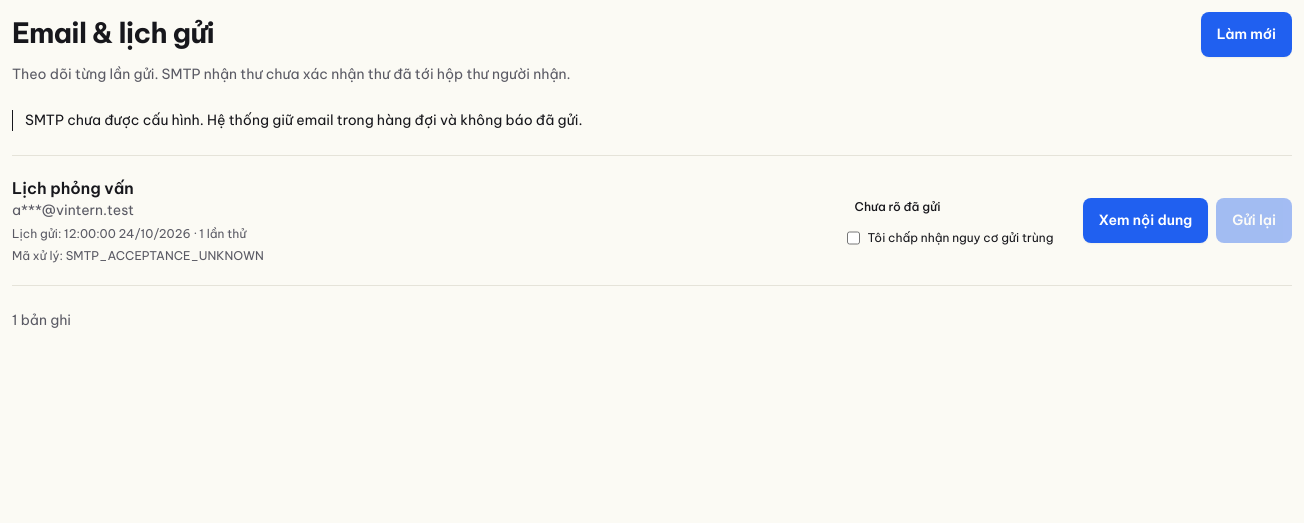
Test case: explains uncertain delivery, requires acknowledgement, blocks double click and surfaces server failure
This screenshot has width=1304, height=523.
Expected: the text "a***@vintern.test" is shown, [12, 201, 134, 219]
Expected: the text "SMTP chưa được cấu hình" is shown, [25, 111, 582, 129]
Click the checkbox labelled "Tôi chấp nhận nguy cơ gửi trùng": (853, 238) [847, 228, 860, 248]
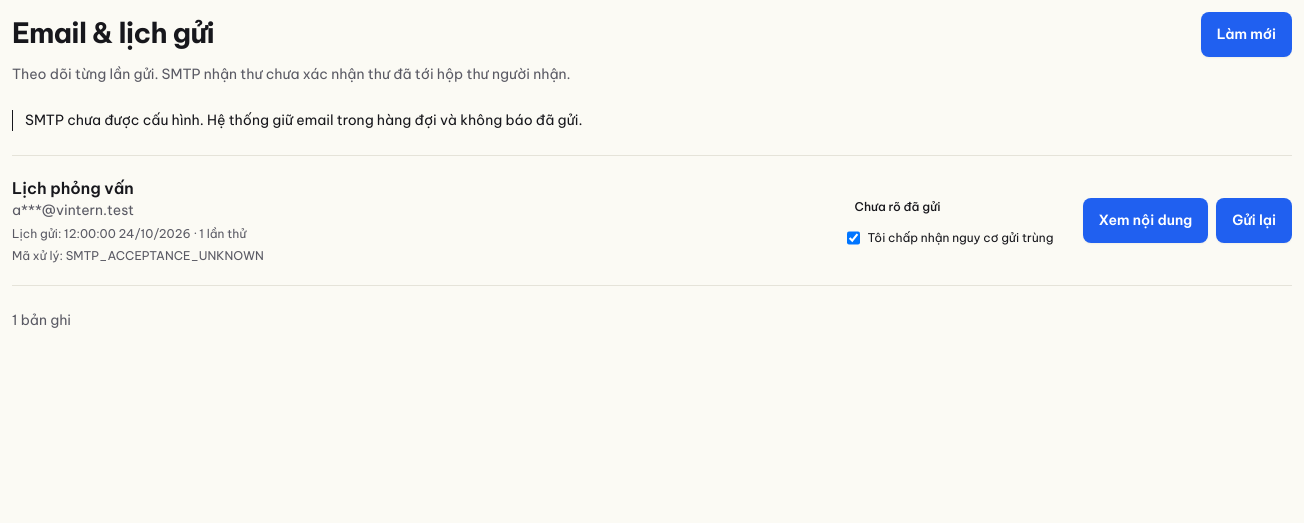
Click the button "Gửi lại": (1254, 220) [1216, 198, 1292, 243]
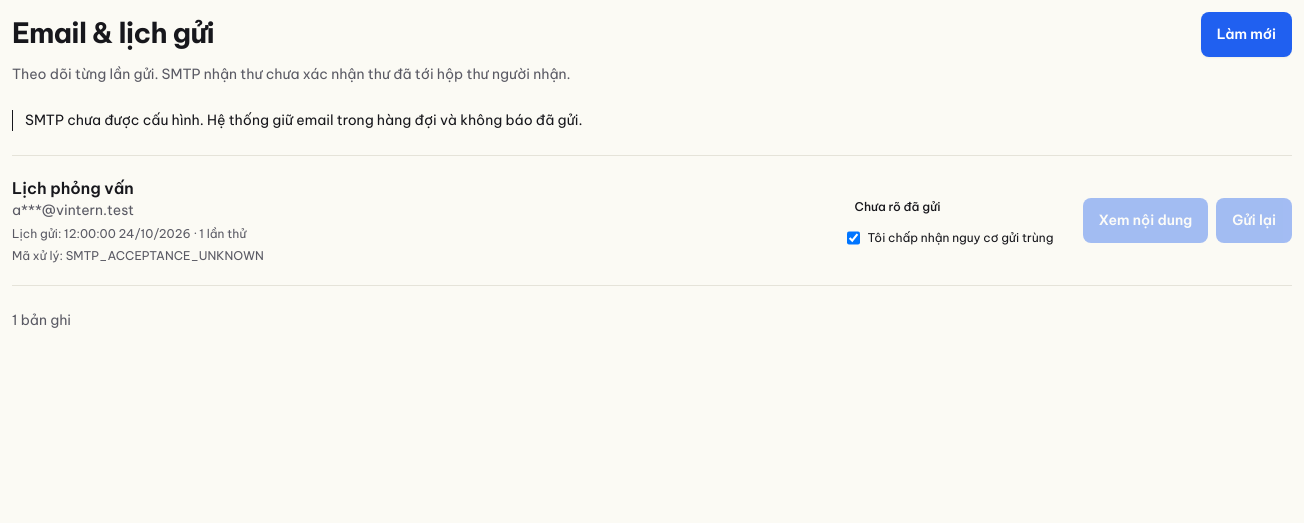
Click the button "Gửi lại": (1254, 220) [1216, 198, 1292, 243]
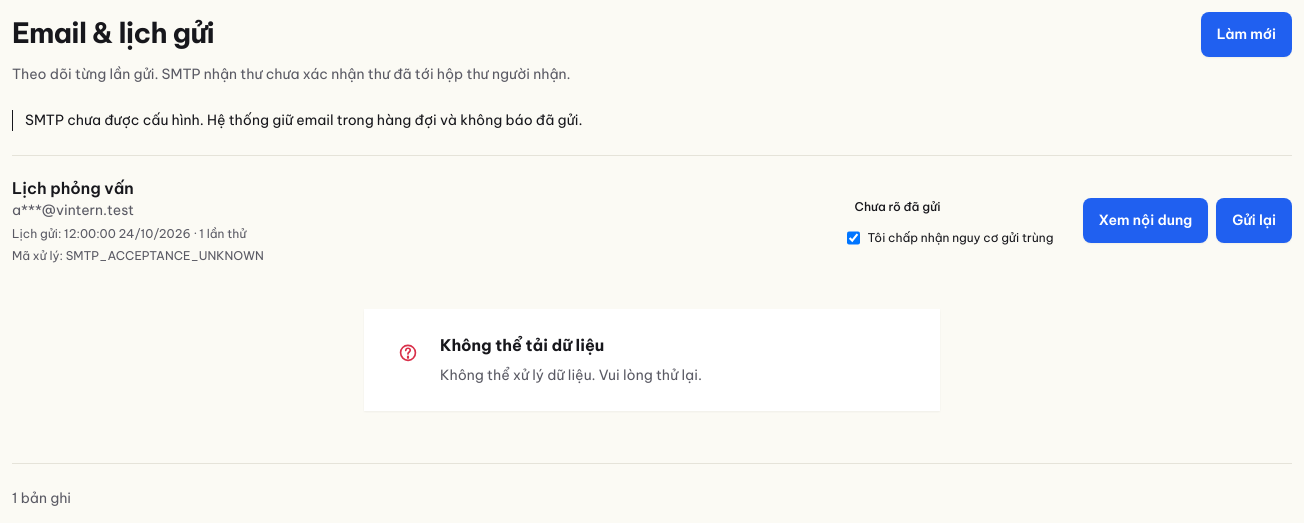
Now the button "Gửi lại" is enabled, box [1216, 198, 1292, 243]
Now the message "Không thể tải dữ liệu Không thể xử lý dữ liệu. Vui lòng thử lại." is shown, box [364, 309, 940, 411]
